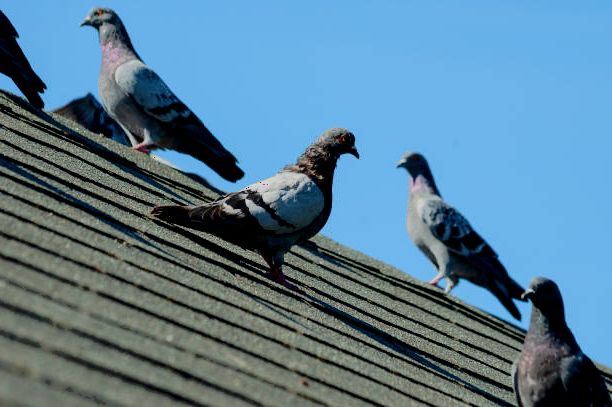Bird: (146, 125, 362, 274), (75, 3, 250, 183), (393, 150, 530, 325), (506, 275, 610, 403)
